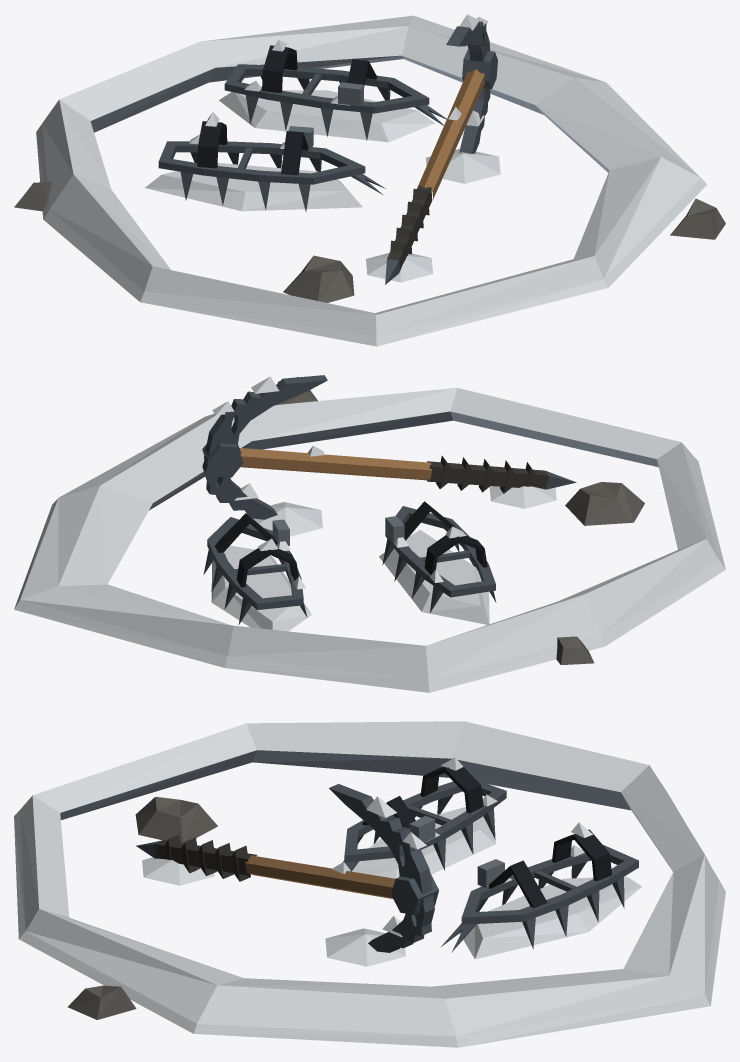
File: ice-axe-and-crampon-e4c7c1.glb
3 renders of one model, top to bottom at view 1: azimuth 30°, elevation 25°; view 2: azimuth 150°, elevation 25°; view 3: azimuth 270°, elevation 25°, orthographic. The views are drawn at different scales.
Parts seen in each view (by area): view 1: snow-print, crampon-mesh, axe-shaft, axe-head; view 2: snow-print, crampon-mesh, axe-shaft, axe-head; view 3: snow-print, crampon-mesh, axe-shaft, axe-head.
Boxes of the visible parts, box(x1,y1,x2,y2) form: snow-print: box(14, 15, 725, 346); crampon-mesh: box(145, 40, 446, 211); axe-shaft: box(366, 69, 500, 284); axe-head: box(446, 14, 497, 153); snow-print: box(14, 377, 725, 692); crampon-mesh: box(203, 501, 496, 631); axe-shaft: box(239, 445, 576, 536); axe-head: box(202, 375, 327, 519); snow-print: box(14, 721, 725, 1047); crampon-mesh: box(337, 757, 641, 959); axe-shaft: box(136, 834, 405, 966); axe-head: box(329, 784, 438, 952).
Size of the model in its own units: 1 by 0.2425 by 1.
